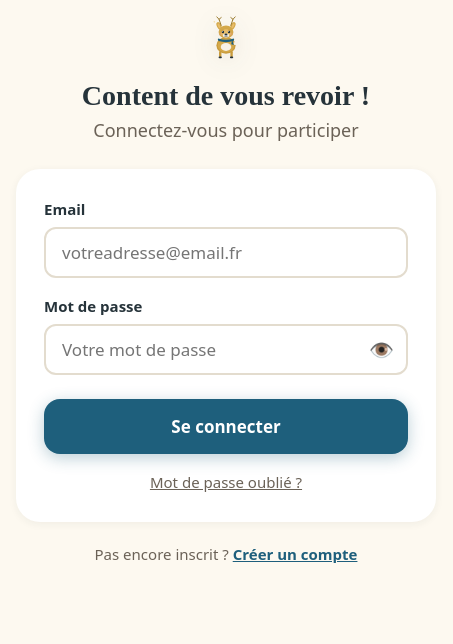
Test: Connexion › Entrée soumet le formulaire ; une erreur est annoncée et reliée aux deux champs
The image size is (453, 644).
Type "a@b.fr" into the field labelled "Email" at (226, 253), box [44,227,408,278]
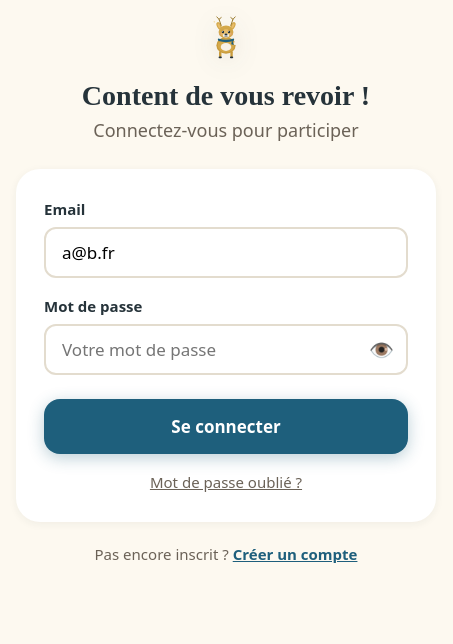
Type "x" into the password field labelled "Mot de passe" at (226, 350), box [44,324,408,375]
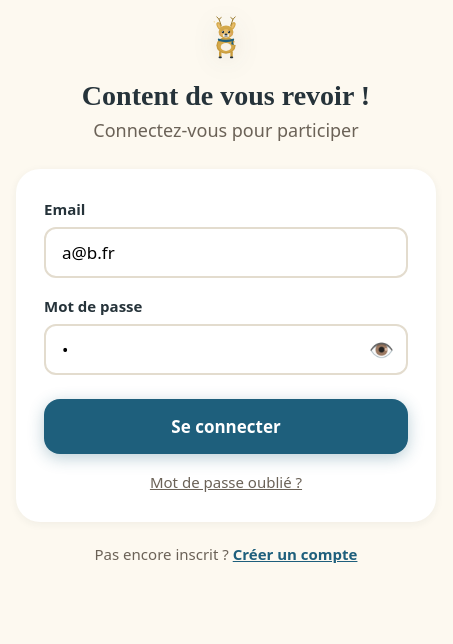
Submit the form labelled "Email", box [16,169,436,522]
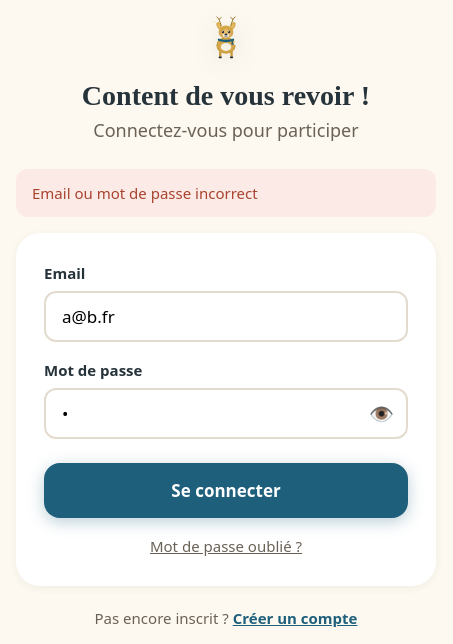
Now the message reads "Email ou mot de passe incorrect", box [32,183,258,203]
